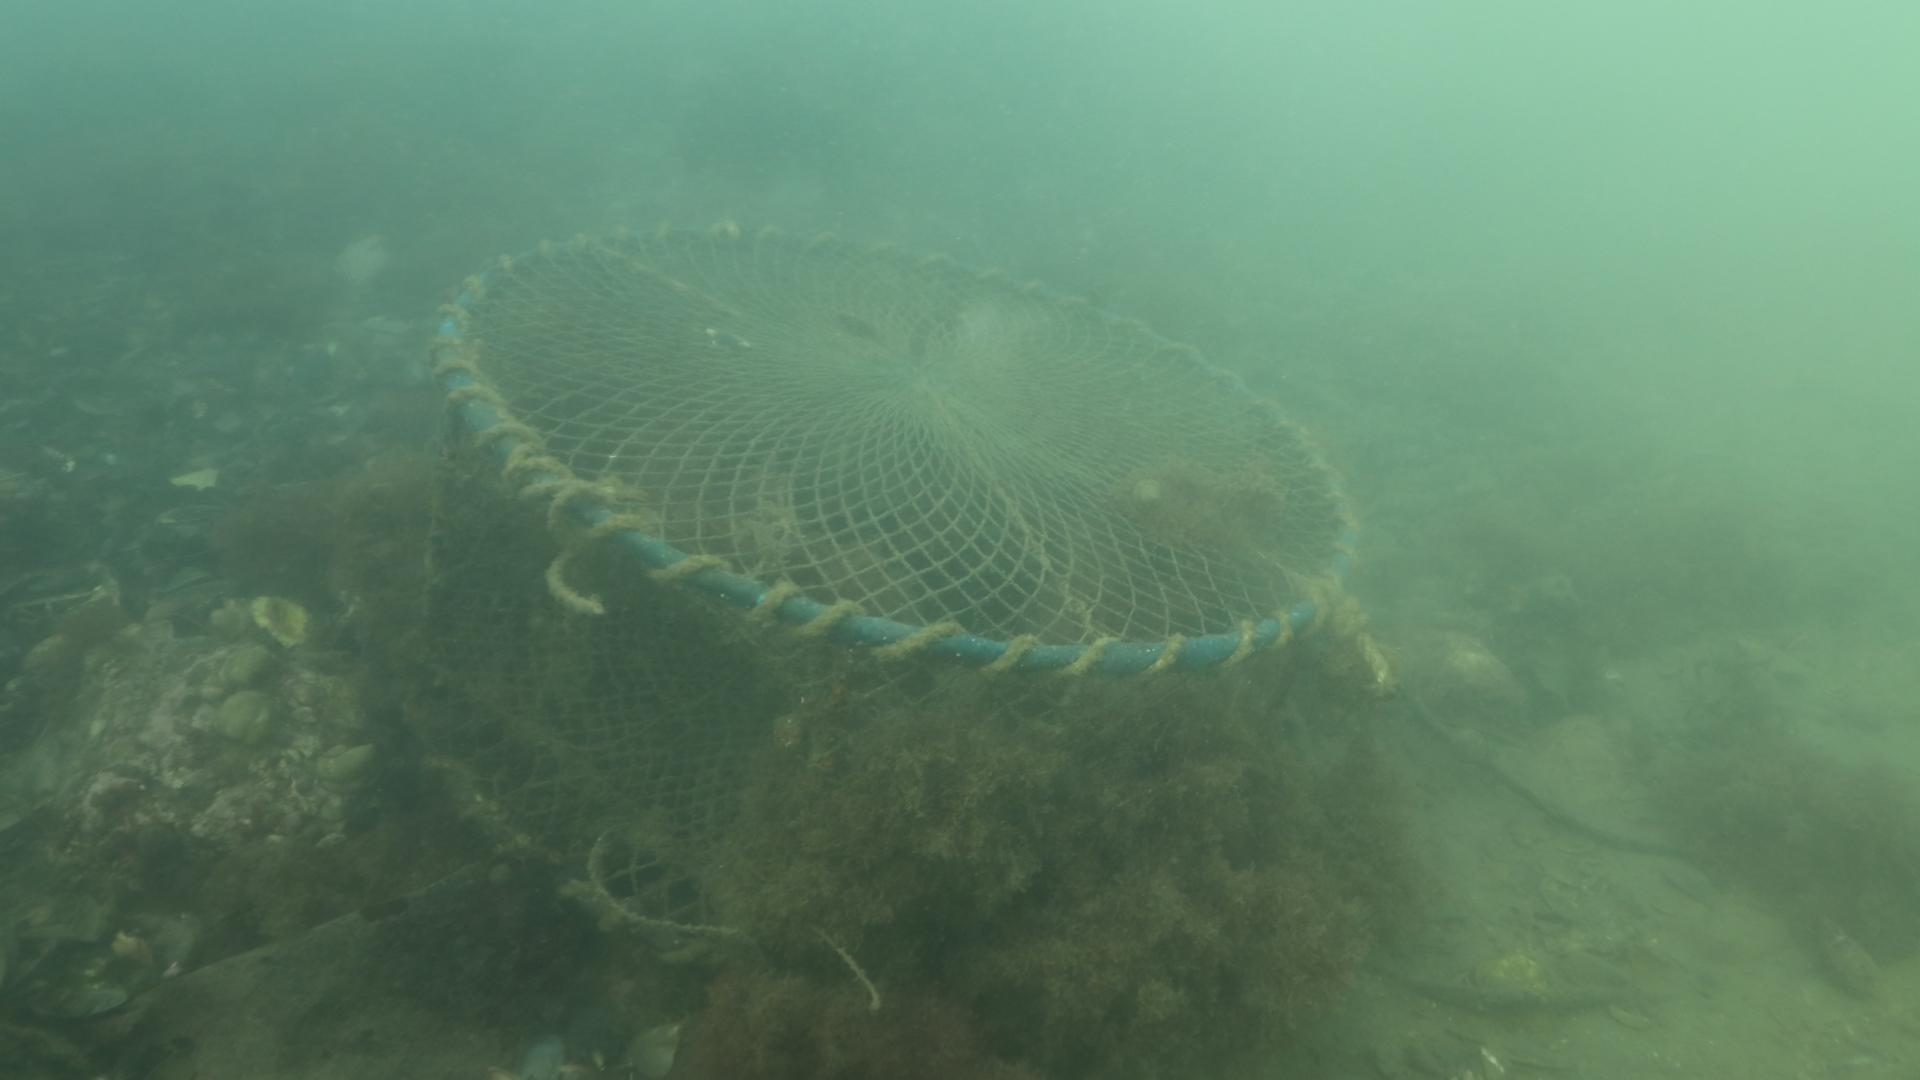circular fish trap: (426, 222, 1357, 926)
